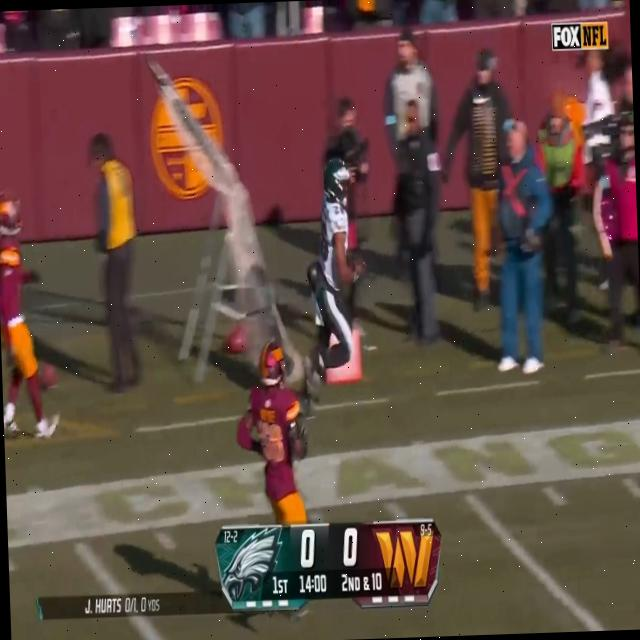Player: (304, 154, 368, 392), (0, 178, 54, 456), (238, 341, 310, 524)
